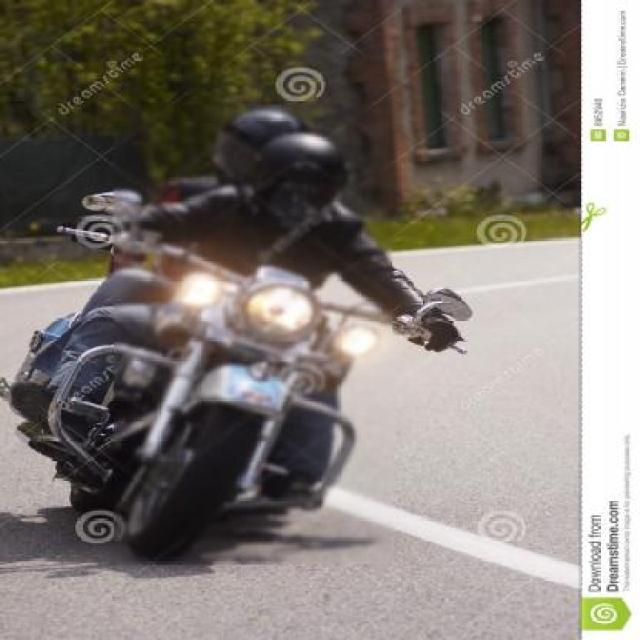helmet: (250, 138, 354, 235), (204, 101, 308, 160)
motorcycle: (11, 42, 481, 577)
